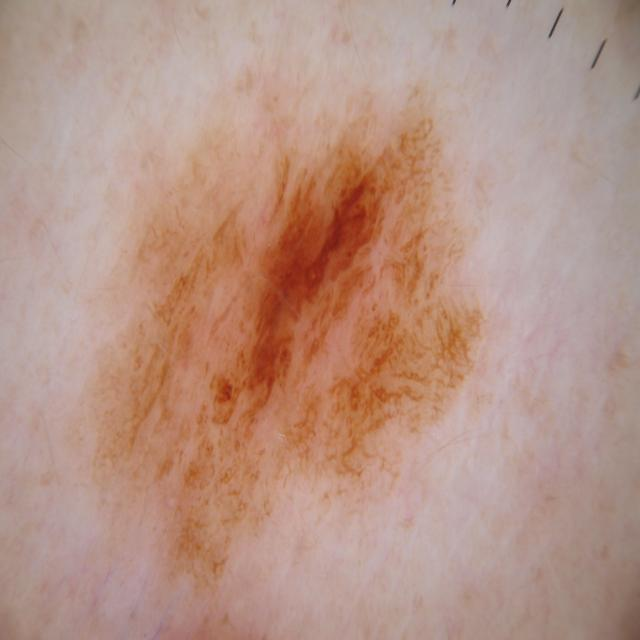Skin-Cancer Nevus: (39, 48, 637, 640)
